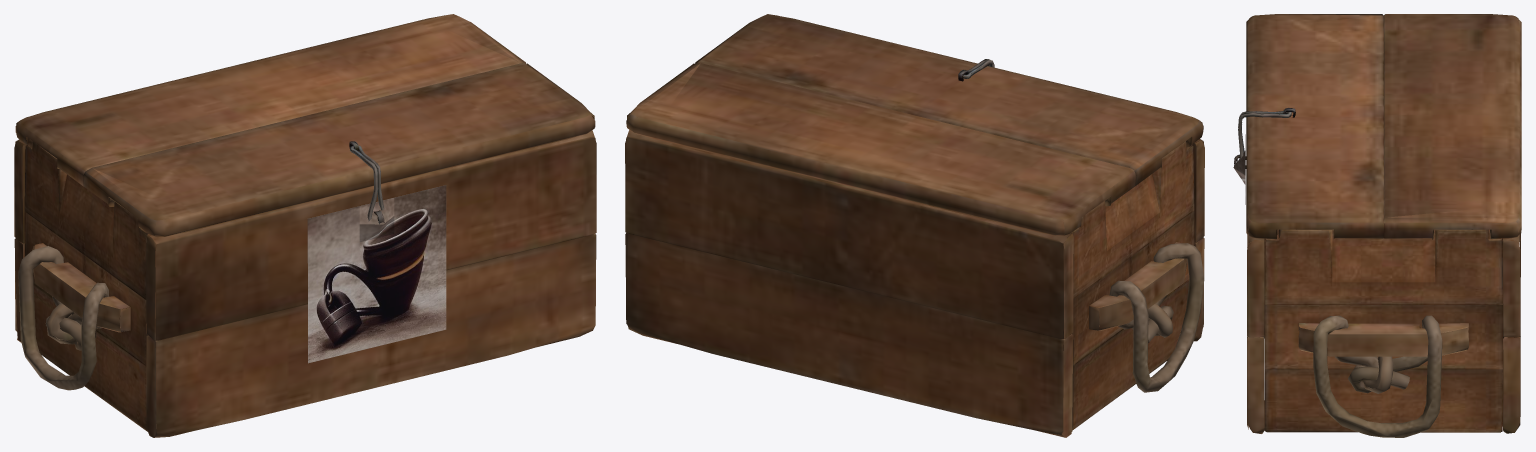
Rendered from isl_crate.glb.
3 renders of one model, left to right at view 1: azimuth 30°, elevation 25°; view 2: azimuth 150°, elevation 25°; view 3: azimuth 270°, elevation 25°, orthographic. The views are drawn at different scales.
Visible parts, largest first — view 1: wooden_crate_01_lid, stk_m_20.png; view 2: wooden_crate_01_lid; view 3: wooden_crate_01_lid.
Boxes of the visible parts, x1,y1,x2,y2 form: wooden_crate_01_lid: (14,14,596,437); stk_m_20.png: (307,185,446,363); wooden_crate_01_lid: (625,14,1204,437); wooden_crate_01_lid: (1234,14,1521,437).
Size of the model in its own units: 0.8247 by 0.3487 by 0.4097.
2 materials, 2 textured.
